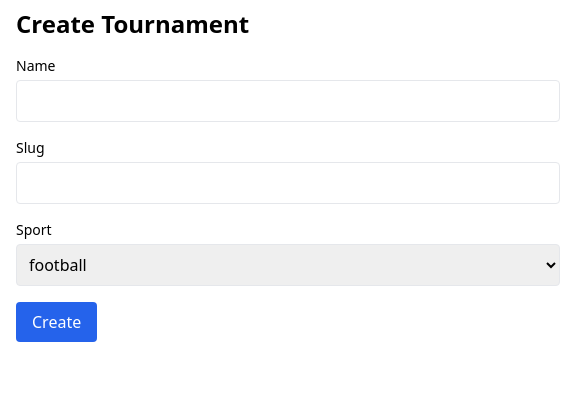
Test case: CreateTournamentPage › shows a fallback error when submit fails without field errors
The width and height of the screenshot is (577, 415).
Type "Euro 2026" into the field labelled "Name" at [288, 101], box x1=16 y1=80 x2=560 y2=122
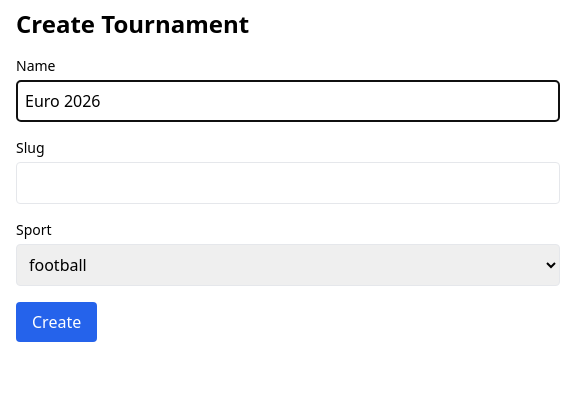
Type "euro2026" into the field labelled "Slug" at [288, 183], box x1=16 y1=162 x2=560 y2=204
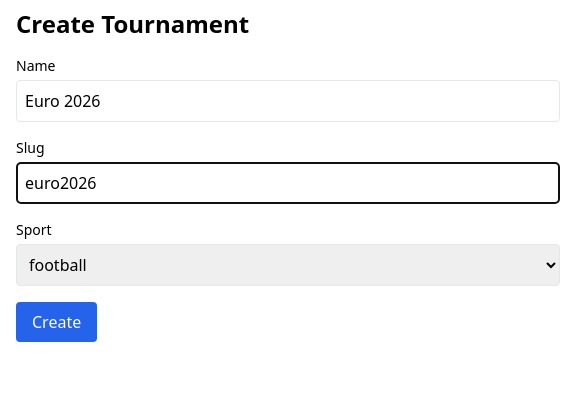
Click the button "Create" at [57, 322], box x1=16 y1=302 x2=97 y2=342
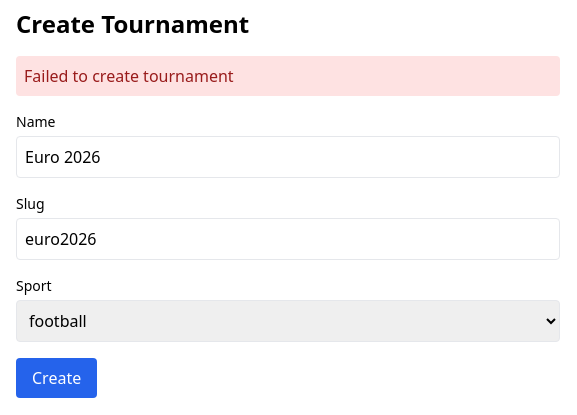
Now the text "Failed to create tournament" is shown, box x1=16 y1=56 x2=560 y2=96
